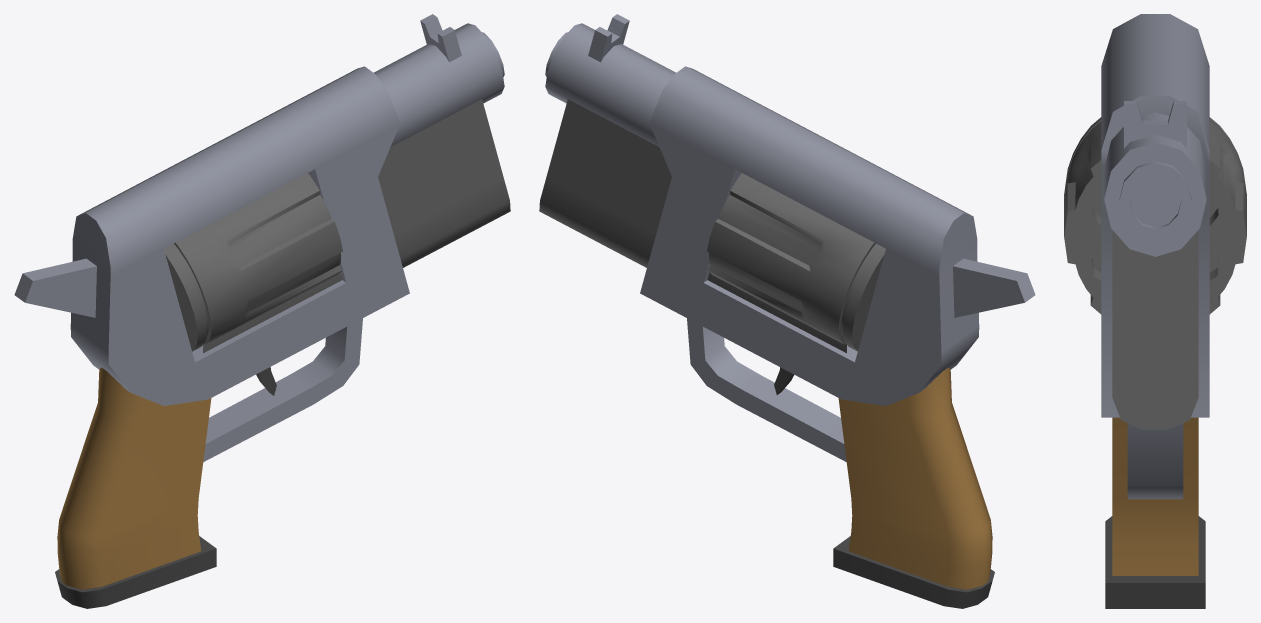
Rendered from handcannon.glb.
The picture shows the model from 3 angles, left to right: view 1: azimuth 30°, elevation 25°; view 2: azimuth 150°, elevation 25°; view 3: azimuth 270°, elevation 25°; orthographic projection. The views are drawn at different scales.
Visible parts, largest first — view 1: Cube290_1, Cube290, Cube290_3, Cube290_2; view 2: Cube290_1, Cube290, Cube290_3, Cube290_2; view 3: Cube290_1, Cube290, Cube290_3, Cube290_2.
Part boxes in pixels (x1,y1,x2,y2): Cube290_1: [14, 14, 504, 461]; Cube290: [164, 99, 510, 353]; Cube290_3: [57, 367, 211, 589]; Cube290_2: [55, 367, 276, 608]; Cube290_1: [545, 14, 1035, 461]; Cube290: [539, 99, 885, 353]; Cube290_3: [838, 367, 992, 589]; Cube290_2: [774, 367, 994, 608]; Cube290_1: [1101, 14, 1209, 499]; Cube290: [1064, 117, 1246, 429]; Cube290_3: [1112, 417, 1198, 575]; Cube290_2: [1105, 516, 1205, 608].
Bounding box in the file's own units: 6.22 × 6.02 × 1.43.
